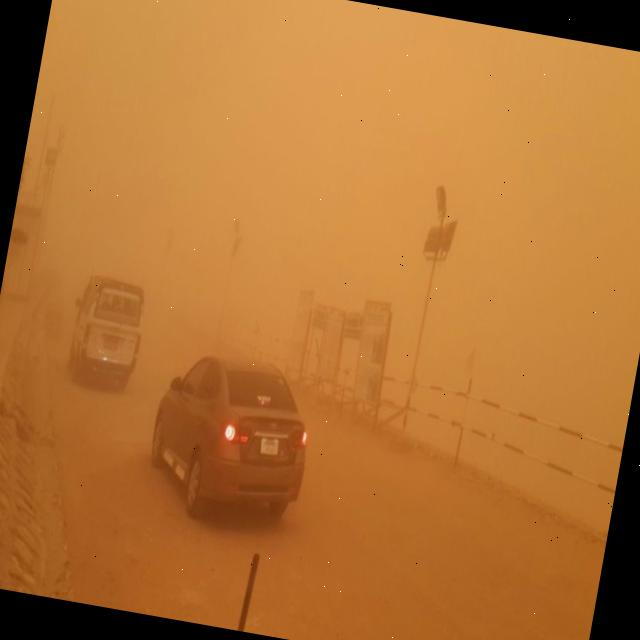car: (142, 346, 324, 532)
truck: (62, 274, 151, 394)
